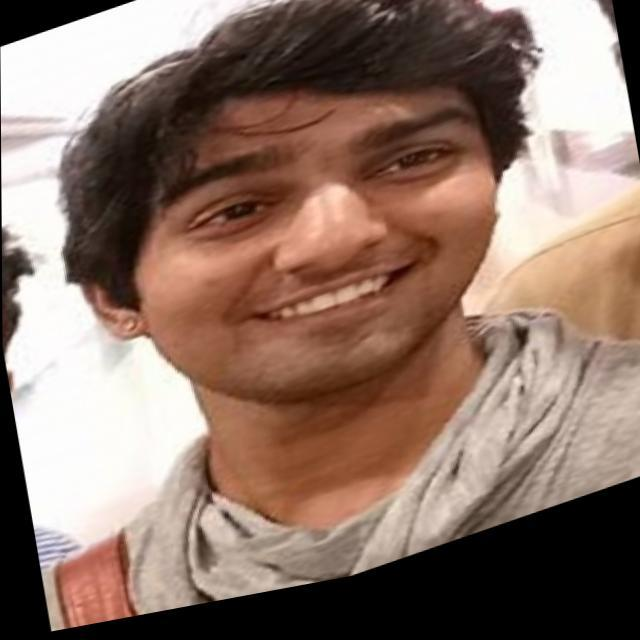Nonhelmet: (54, 0, 544, 404)
